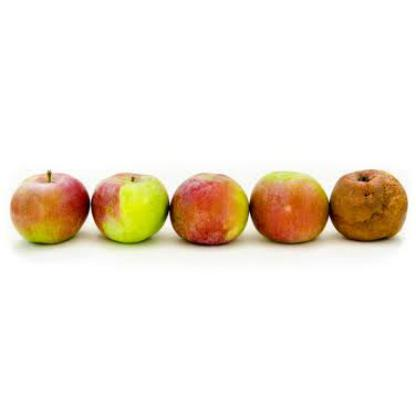apple: (172, 170, 246, 244), (9, 168, 85, 240), (254, 171, 326, 242), (95, 174, 163, 246)
damaged_apple: (332, 170, 408, 240)
